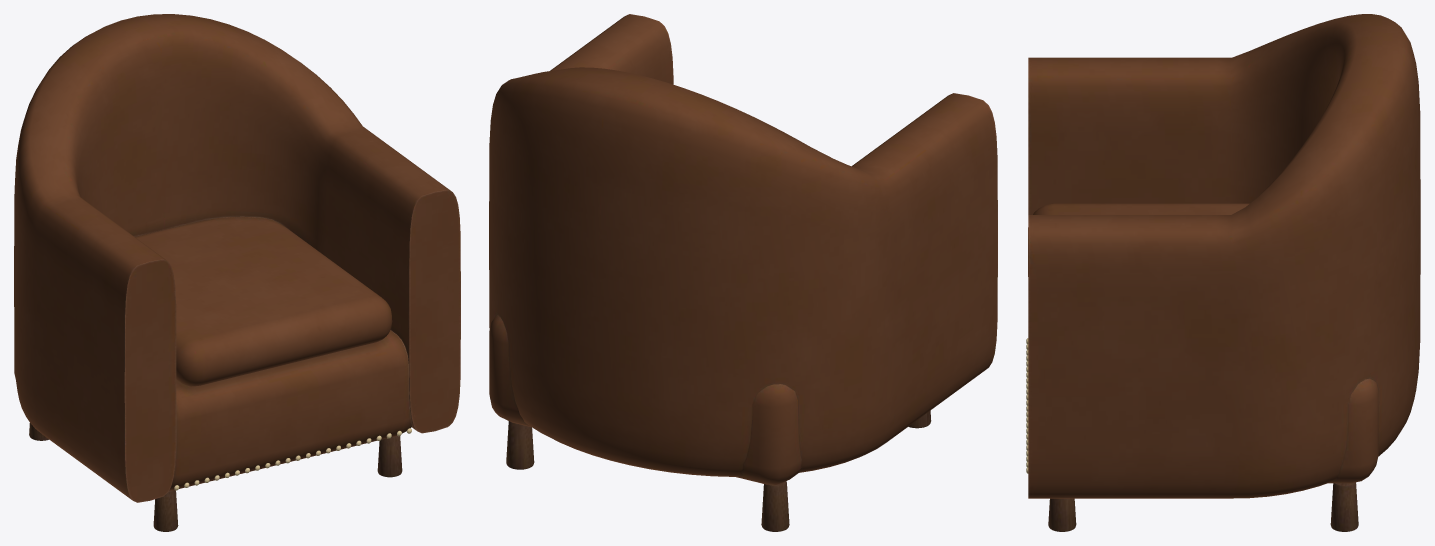
Rendered from club_chair.glb.
The picture shows the model from 3 angles, left to right: view 1: azimuth 30°, elevation 25°; view 2: azimuth 150°, elevation 25°; view 3: azimuth 270°, elevation 25°; orthographic projection. The views are drawn at different scales.
Visible parts, largest first — view 1: club_chair; view 2: club_chair; view 3: club_chair.
Part boxes in pixels (x1,y1,x2,y2): club_chair: [14, 14, 460, 531]; club_chair: [489, 14, 997, 531]; club_chair: [1026, 14, 1420, 531].
Size of the model in its own units: 0.78 by 0.8296 by 0.6982.
Materials: 1 (1 with a texture image).
